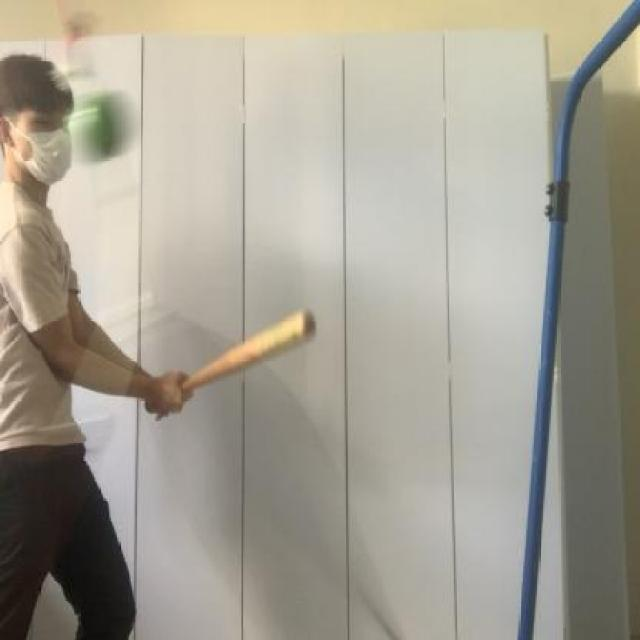baseball: (72, 93, 136, 165)
